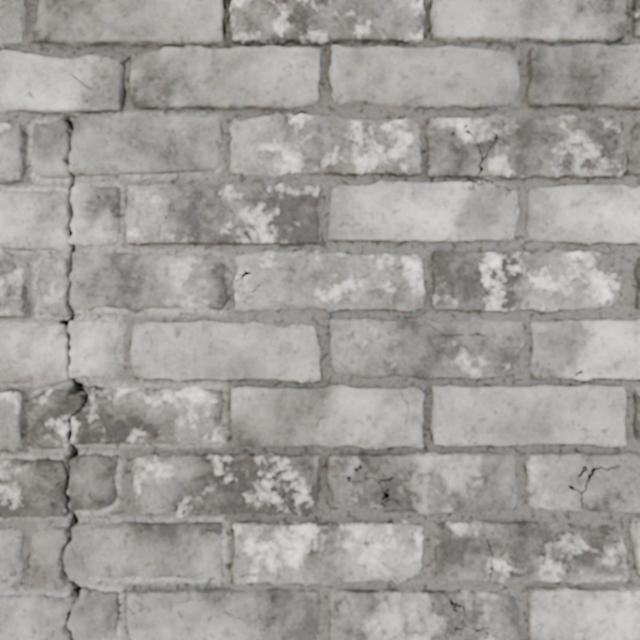broken_brick: (28, 385, 223, 449), (31, 114, 221, 178), (64, 521, 222, 581), (70, 252, 228, 312), (0, 186, 120, 250), (0, 587, 119, 639), (0, 325, 69, 384), (0, 458, 68, 517), (67, 453, 118, 510), (68, 320, 118, 377), (30, 525, 68, 590), (35, 258, 70, 316)
crack: (0, 0, 424, 113), (430, 0, 639, 110), (425, 115, 624, 178), (434, 520, 629, 584), (232, 520, 423, 585), (229, 113, 421, 177), (125, 182, 319, 245), (231, 385, 424, 448), (431, 384, 626, 446), (329, 317, 524, 379), (131, 453, 319, 517), (329, 46, 519, 109), (328, 180, 518, 242), (327, 452, 517, 514), (431, 250, 624, 311), (233, 250, 424, 311), (131, 321, 320, 382), (126, 587, 319, 639), (328, 588, 521, 639), (526, 451, 639, 512), (526, 185, 639, 245), (530, 319, 639, 380), (528, 586, 639, 639), (56, 408, 82, 594), (60, 242, 88, 405), (0, 123, 26, 183), (0, 260, 27, 316), (0, 528, 23, 589), (0, 391, 22, 450), (0, 0, 26, 48), (62, 171, 75, 239), (60, 116, 75, 166), (626, 122, 639, 175), (631, 518, 639, 573), (633, 386, 639, 440), (62, 610, 73, 639), (632, 0, 639, 37), (634, 257, 639, 308), (205, 529, 222, 533), (142, 171, 158, 172), (40, 247, 51, 248)
